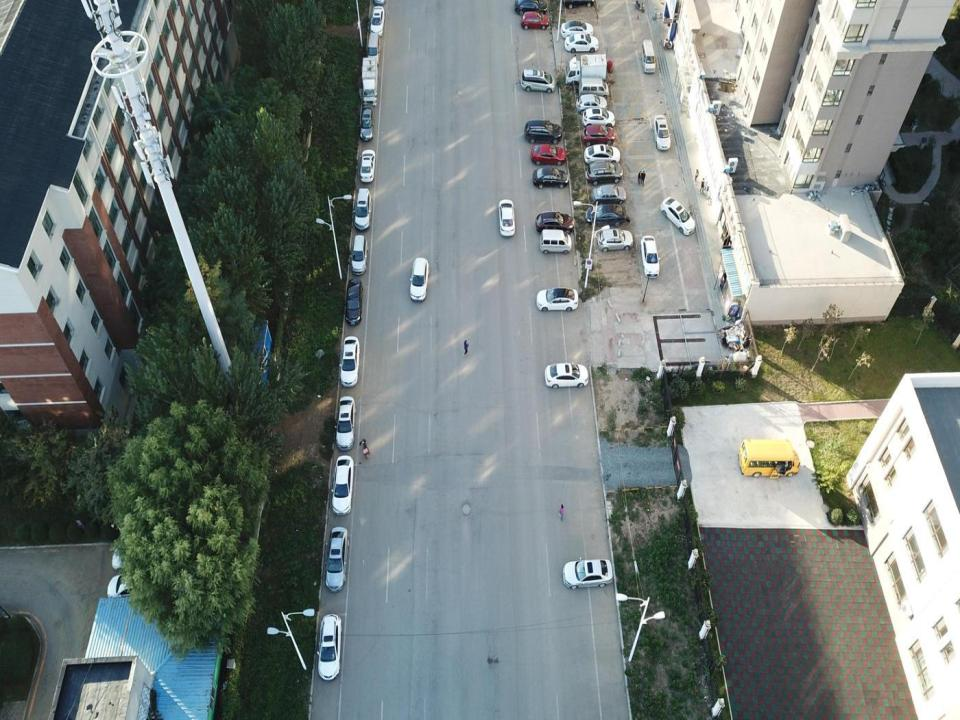car: (561, 556, 612, 591), (317, 612, 342, 682), (111, 540, 169, 570), (324, 526, 349, 594), (106, 572, 161, 602), (660, 196, 695, 235), (332, 455, 354, 516), (545, 362, 588, 387), (586, 201, 625, 228), (536, 287, 578, 311), (336, 397, 355, 450), (409, 258, 430, 304), (586, 159, 623, 185), (342, 336, 360, 388), (535, 213, 573, 236), (532, 167, 571, 189), (530, 142, 569, 164), (524, 120, 563, 142), (640, 234, 659, 279), (585, 144, 620, 168), (520, 70, 556, 93), (346, 276, 362, 327), (597, 230, 632, 253), (497, 198, 516, 238), (564, 32, 600, 53), (520, 10, 551, 34), (354, 189, 372, 230), (576, 93, 608, 116), (654, 114, 672, 153), (582, 107, 614, 128), (352, 235, 368, 275), (594, 184, 626, 204), (582, 125, 614, 145), (560, 20, 593, 39), (360, 150, 376, 183), (360, 107, 374, 142), (514, 0, 549, 14), (371, 6, 384, 36)
truck: (566, 53, 609, 85), (362, 55, 379, 107)
van: (737, 437, 799, 478), (540, 230, 573, 258), (577, 78, 609, 99), (366, 33, 381, 66), (642, 40, 655, 73)
